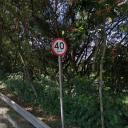speed_limit_40: (52, 38, 68, 56)
